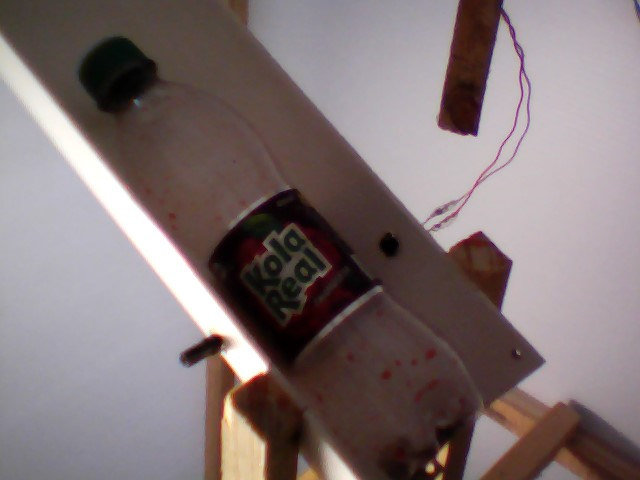plastico: (67, 22, 487, 480)
